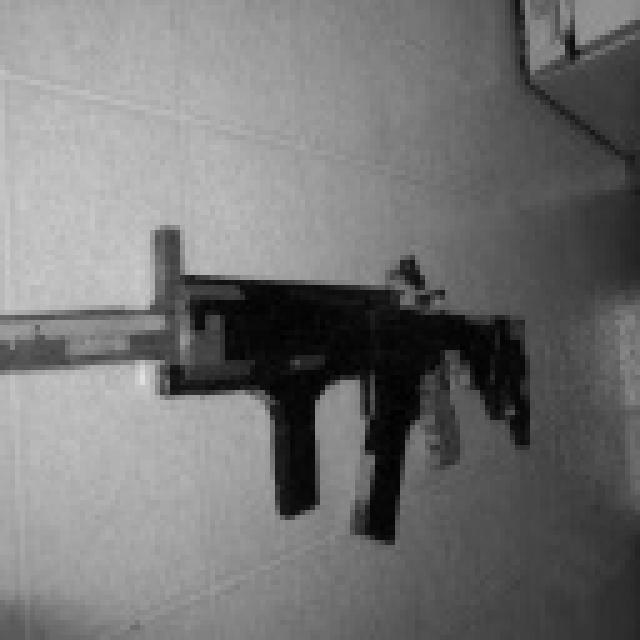Rifle: (0, 215, 557, 567)
